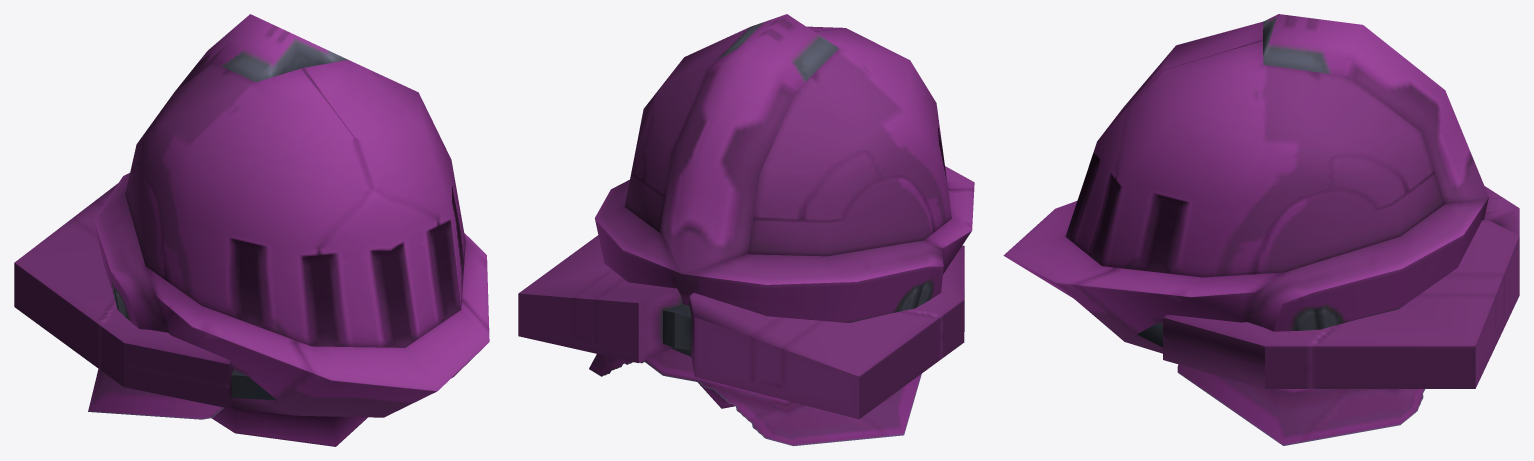
Rendered from Full_model.dae.
3 views of the same model, side by side, from view 1: azimuth 30°, elevation 25°; view 2: azimuth 150°, elevation 25°; view 3: azimuth 270°, elevation 25° (orthographic). The views are drawn at different scales.
Visible parts, largest first — view 1: knight.model-MeshNodes["helmet"], knight.model-MeshNodes["objtheShield"], knight.model-MeshNodes["kilt"]; view 2: knight.model-MeshNodes["helmet"], knight.model-MeshNodes["objtheShield"], knight.model-MeshNodes["kilt"]; view 3: knight.model-MeshNodes["helmet"], knight.model-MeshNodes["objtheShield"], knight.model-MeshNodes["kilt"].
Part boxes in pixels (left/top/right/bottom): knight.model-MeshNodes["helmet"]: left=94, top=14, right=489, bottom=446; knight.model-MeshNodes["objtheShield"]: left=14, top=183, right=276, bottom=408; knight.model-MeshNodes["kilt"]: left=88, top=369, right=223, bottom=419; knight.model-MeshNodes["helmet"]: left=595, top=14, right=974, bottom=408; knight.model-MeshNodes["objtheShield"]: left=518, top=235, right=964, bottom=419; knight.model-MeshNodes["kilt"]: left=589, top=348, right=921, bottom=446; knight.model-MeshNodes["helmet"]: left=1003, top=14, right=1488, bottom=353; knight.model-MeshNodes["objtheShield"]: left=1137, top=186, right=1519, bottom=388; knight.model-MeshNodes["kilt"]: left=1177, top=364, right=1425, bottom=445.
Size of the model in its own units: 0.669 by 0.8774 by 0.6875.
3 materials, 3 textured.
